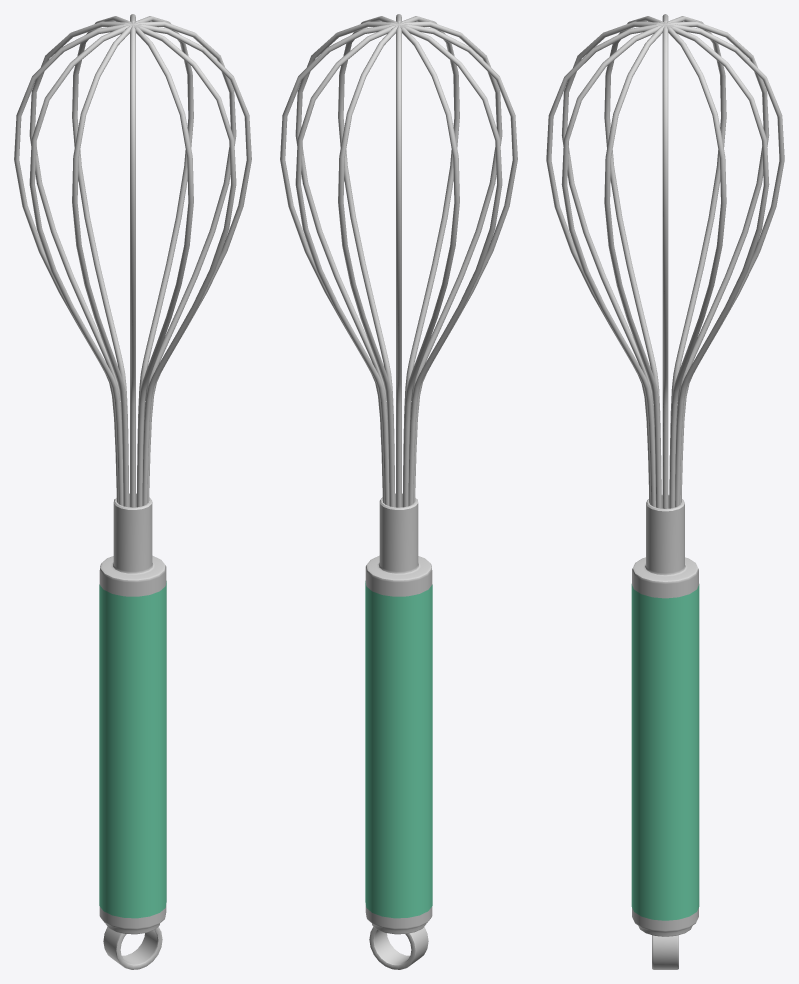
The model's file is Whisk.fbx.
3 views of the same model, side by side, from view 1: azimuth 30°, elevation 25°; view 2: azimuth 150°, elevation 25°; view 3: azimuth 270°, elevation 25° (orthographic).
Visible parts, largest first — view 1: Whisk; view 2: Whisk; view 3: Whisk.
Part boxes in pixels (x1,y1,x2,y2): Whisk: (14, 14, 251, 969); Whisk: (280, 14, 517, 969); Whisk: (546, 14, 784, 969).
Bounding box in the file's own units: 6.36 × 27.76 × 6.36.
